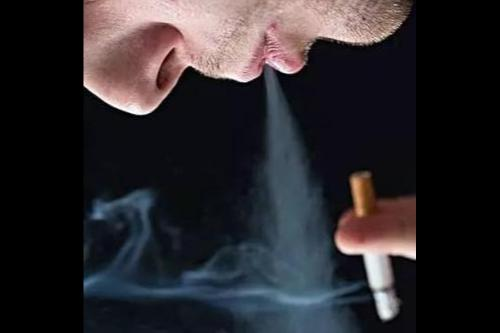Cigarette: (350, 172, 404, 320)
